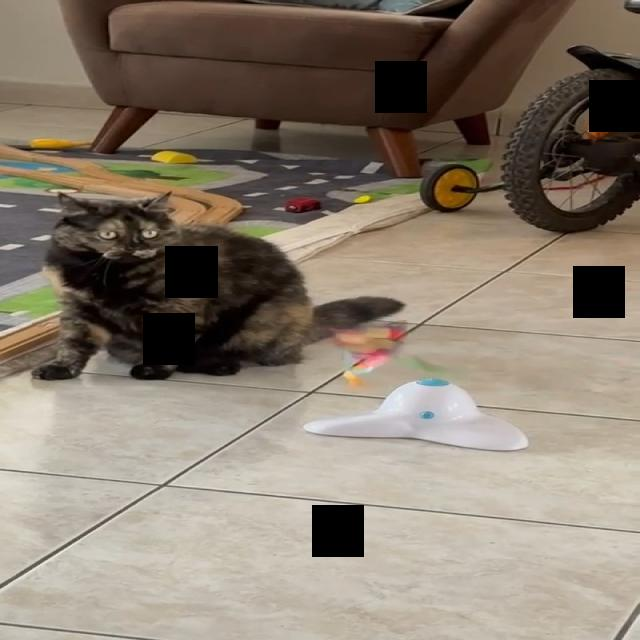authorized: (31, 190, 405, 381)
